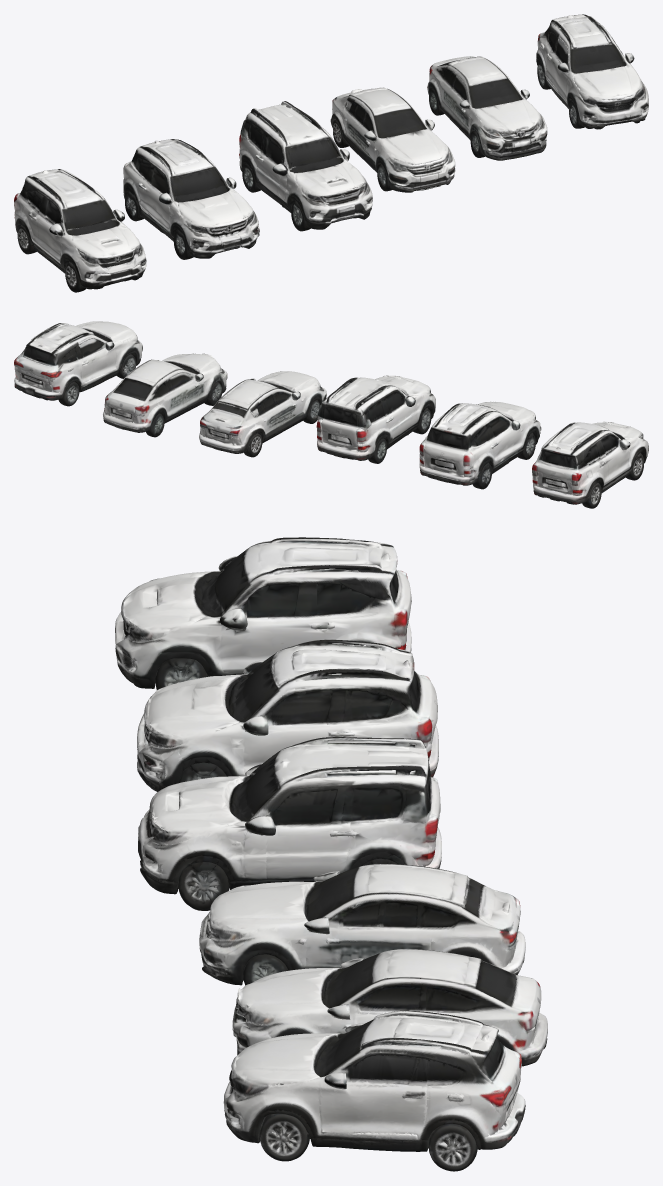
File: white_suv_lineup_3d_model-29d3ad5c.glb
The picture shows the model from 3 angles, top to bottom: view 1: azimuth 30°, elevation 25°; view 2: azimuth 150°, elevation 25°; view 3: azimuth 270°, elevation 25°; orthographic projection. The views are drawn at different scales.
Parts seen in each view (by area): view 1: tripo_node_eaf9ca30-8160-42b1-b1f0-227b790d1963; view 2: tripo_node_eaf9ca30-8160-42b1-b1f0-227b790d1963; view 3: tripo_node_eaf9ca30-8160-42b1-b1f0-227b790d1963.
Boxes of the visible parts, x1,y1,x2,y2 form: tripo_node_eaf9ca30-8160-42b1-b1f0-227b790d1963: [14, 14, 648, 292]; tripo_node_eaf9ca30-8160-42b1-b1f0-227b790d1963: [14, 321, 648, 508]; tripo_node_eaf9ca30-8160-42b1-b1f0-227b790d1963: [115, 537, 547, 1171].
Bounding box in the file's own units: 0.9814 × 0.1128 × 0.3328.
1 material, 1 textured.
